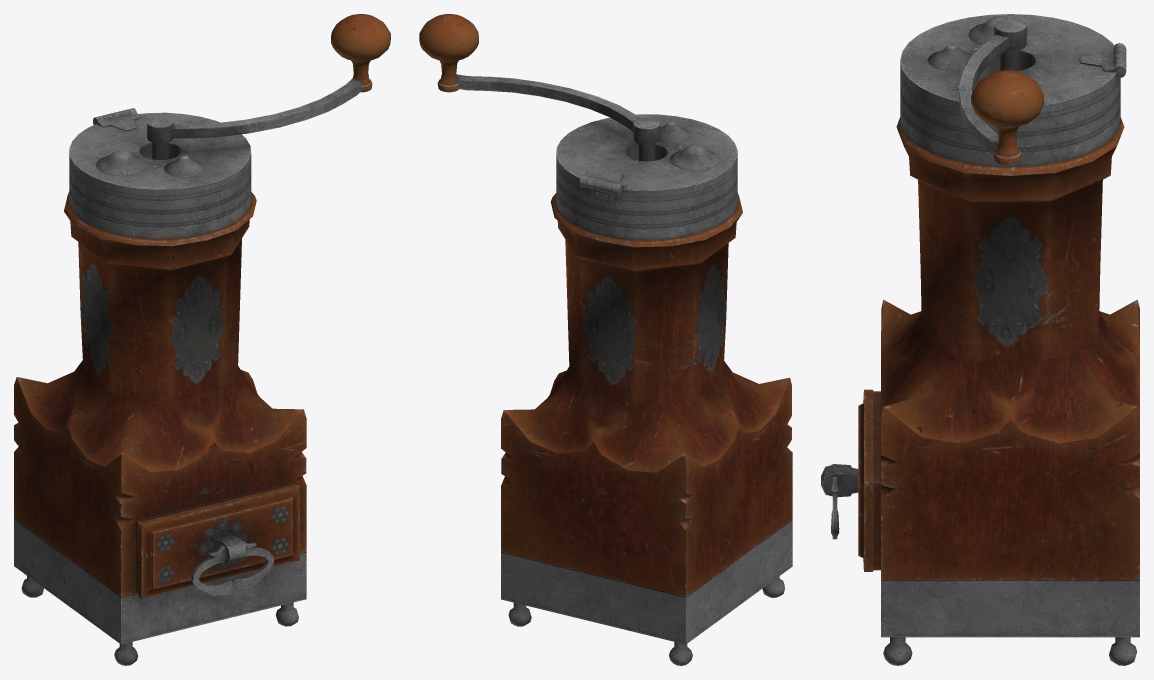
The model's file is coffee_grinder.glb.
3 views of the same model, side by side, from view 1: azimuth 30°, elevation 25°; view 2: azimuth 150°, elevation 25°; view 3: azimuth 270°, elevation 25° (orthographic). The views are drawn at different scales.
Visible parts, largest first — view 1: SM_CoffeeGrinder_01; view 2: SM_CoffeeGrinder_01; view 3: SM_CoffeeGrinder_01.
Boxes of the visible parts, x1,y1,x2,y2 form: SM_CoffeeGrinder_01: [14, 14, 390, 665]; SM_CoffeeGrinder_01: [419, 14, 792, 665]; SM_CoffeeGrinder_01: [821, 14, 1139, 665].
Bounding box in the file's own units: 0.1187 × 0.1941 × 0.0851.
1 material, 1 textured.
